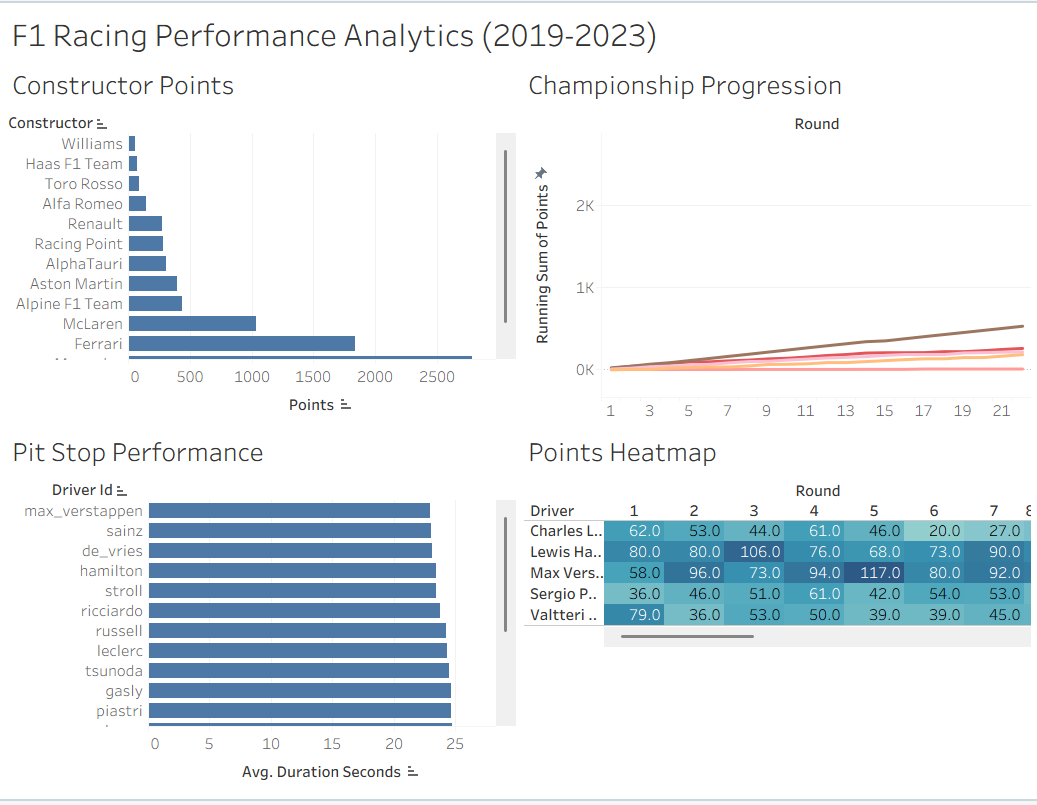

The dashboard page shown, as its layout file describes it:
{"tool":"tableau","page":{"name":"F1 Racing Performance Analytics (2019-2023)","canvas":[1000,1000],"units":"permille","ordinal":0},"visuals":[{"type":"title","box":[7.6,10,984.7,62.5]},{"type":"worksheet","title":"Constructor Points","mark":"Automatic","rows":["constructor"],"cols":["points"],"box":[7.6,72.5,492.4,458.8]},{"type":"worksheet","title":"Championship Progression","mark":"Line","rows":["points"],"cols":["round"],"box":[500,72.5,492.4,458.8]},{"type":"worksheet","title":"Pit Stop Performance","mark":"Automatic","rows":["driver_id"],"cols":["duration_seconds"],"box":[7.6,531.2,492.4,458.8]},{"type":"worksheet","title":"Points Heatmap","mark":"Square","rows":["driver"],"cols":["round"],"box":[500,531.2,492.4,458.8]}]}

Visuals, with their boxes on the dashboard's canvas, which has no fixed pixel size, in thousandths of its width and height (x1, y1, x2, y2). These are canvas units, not pixel positions in the 1037x805 screenshot, which may show the page scaled, cropped or inside an application window:
title: locate(8, 10, 992, 72)
"Constructor Points" worksheet: locate(8, 72, 500, 531)
"Championship Progression" worksheet (Line marks): locate(500, 72, 992, 531)
"Pit Stop Performance" worksheet: locate(8, 531, 500, 990)
"Points Heatmap" worksheet (Square marks): locate(500, 531, 992, 990)
